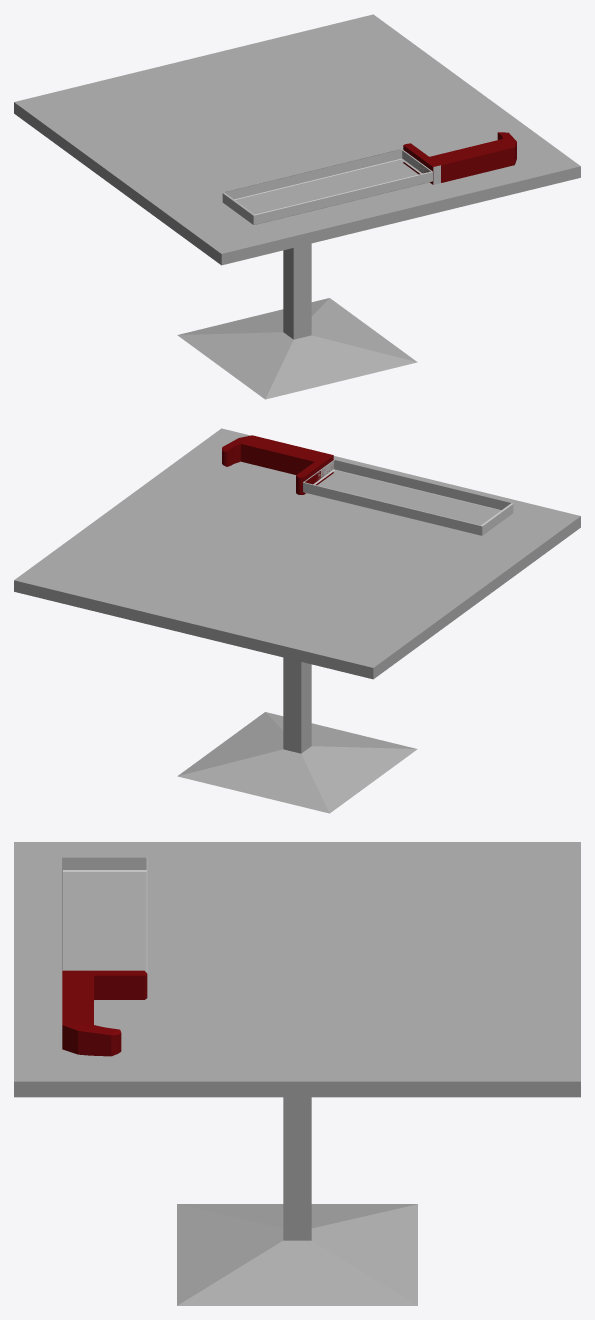
File: Table with saw.fbx
The picture shows the model from 3 angles, top to bottom: view 1: azimuth 30°, elevation 25°; view 2: azimuth 150°, elevation 25°; view 3: azimuth 270°, elevation 25°; orthographic projection. The views are drawn at different scales.
Visible parts, largest first — view 1: Table, Saw; view 2: Table, Saw; view 3: Table, Saw.
Boxes of the visible parts, <box> form: Table: <box>14,14,580,399</box>; Saw: <box>222,132,516,224</box>; Table: <box>14,428,580,813</box>; Saw: <box>222,435,513,535</box>; Table: <box>14,842,580,1305</box>; Saw: <box>62,857,147,1056</box>.
Size of the model in its own units: 400 by 247 by 400.
